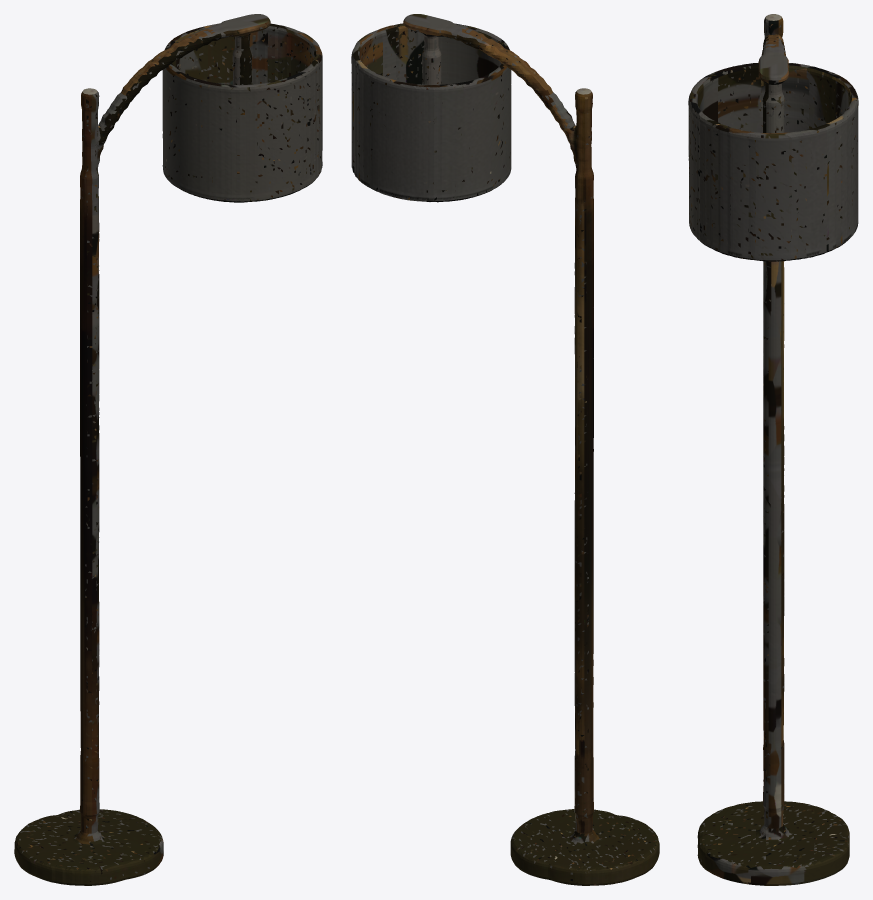
The model's file is sunmory-temperatures-standing-adjustable-lampshade.glb.
The picture shows the model from 3 angles, left to right: view 1: azimuth 30°, elevation 25°; view 2: azimuth 150°, elevation 25°; view 3: azimuth 270°, elevation 25°; orthographic projection. The views are drawn at different scales.
Parts seen in each view (by area): view 1: world; view 2: world; view 3: world.
Boxes of the visible parts, left/top/right/bottom form: world: left=14, top=14, right=322, bottom=885; world: left=351, top=14, right=659, bottom=885; world: left=688, top=14, right=858, bottom=885.
Bounding box in the file's own units: 0.752 × 1.99 × 0.3521.
Materials: 1 (1 with a texture image).
